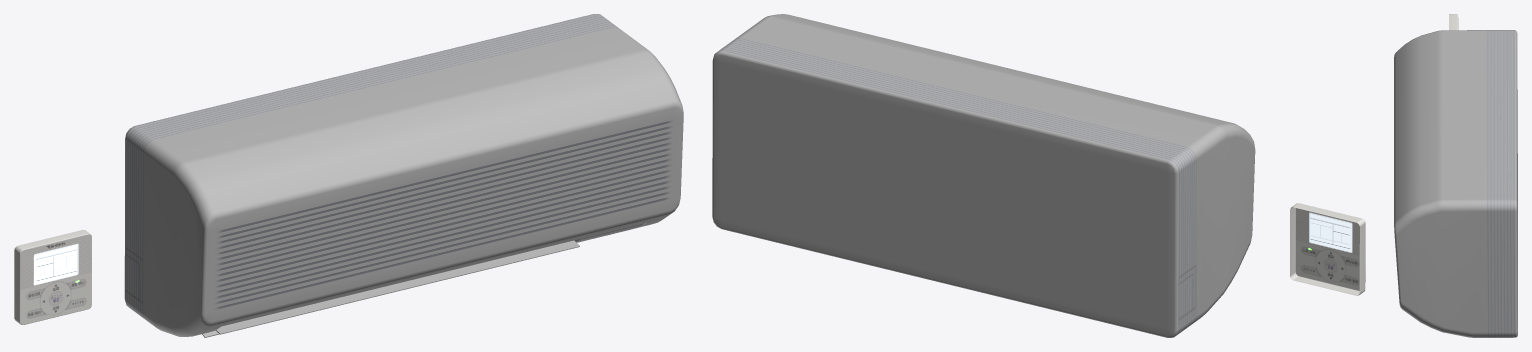
3 renders of one model, left to right at view 1: azimuth 30°, elevation 25°; view 2: azimuth 150°, elevation 25°; view 3: azimuth 270°, elevation 25°, orthographic. The views are drawn at different scales.
Parts seen in each view (by area): view 1: AC_SkyAircon, AC_Controller, AC_SkyAircon_Flap_Fix; view 2: AC_SkyAircon, AC_Controller; view 3: AC_SkyAircon, AC_Controller.
Boxes of the visible parts, x1,y1,x2,y2 form: AC_SkyAircon: [124, 14, 683, 336]; AC_Controller: [14, 230, 91, 324]; AC_SkyAircon_Flap_Fix: [202, 240, 579, 337]; AC_SkyAircon: [712, 14, 1255, 337]; AC_Controller: [1290, 203, 1365, 295]; AC_SkyAircon: [1394, 30, 1517, 337]; AC_Controller: [1449, 14, 1458, 30].
Bounding box in the file's own units: 1.04 × 0.2904 × 0.2361.
Materials: 1 (1 with a texture image).
